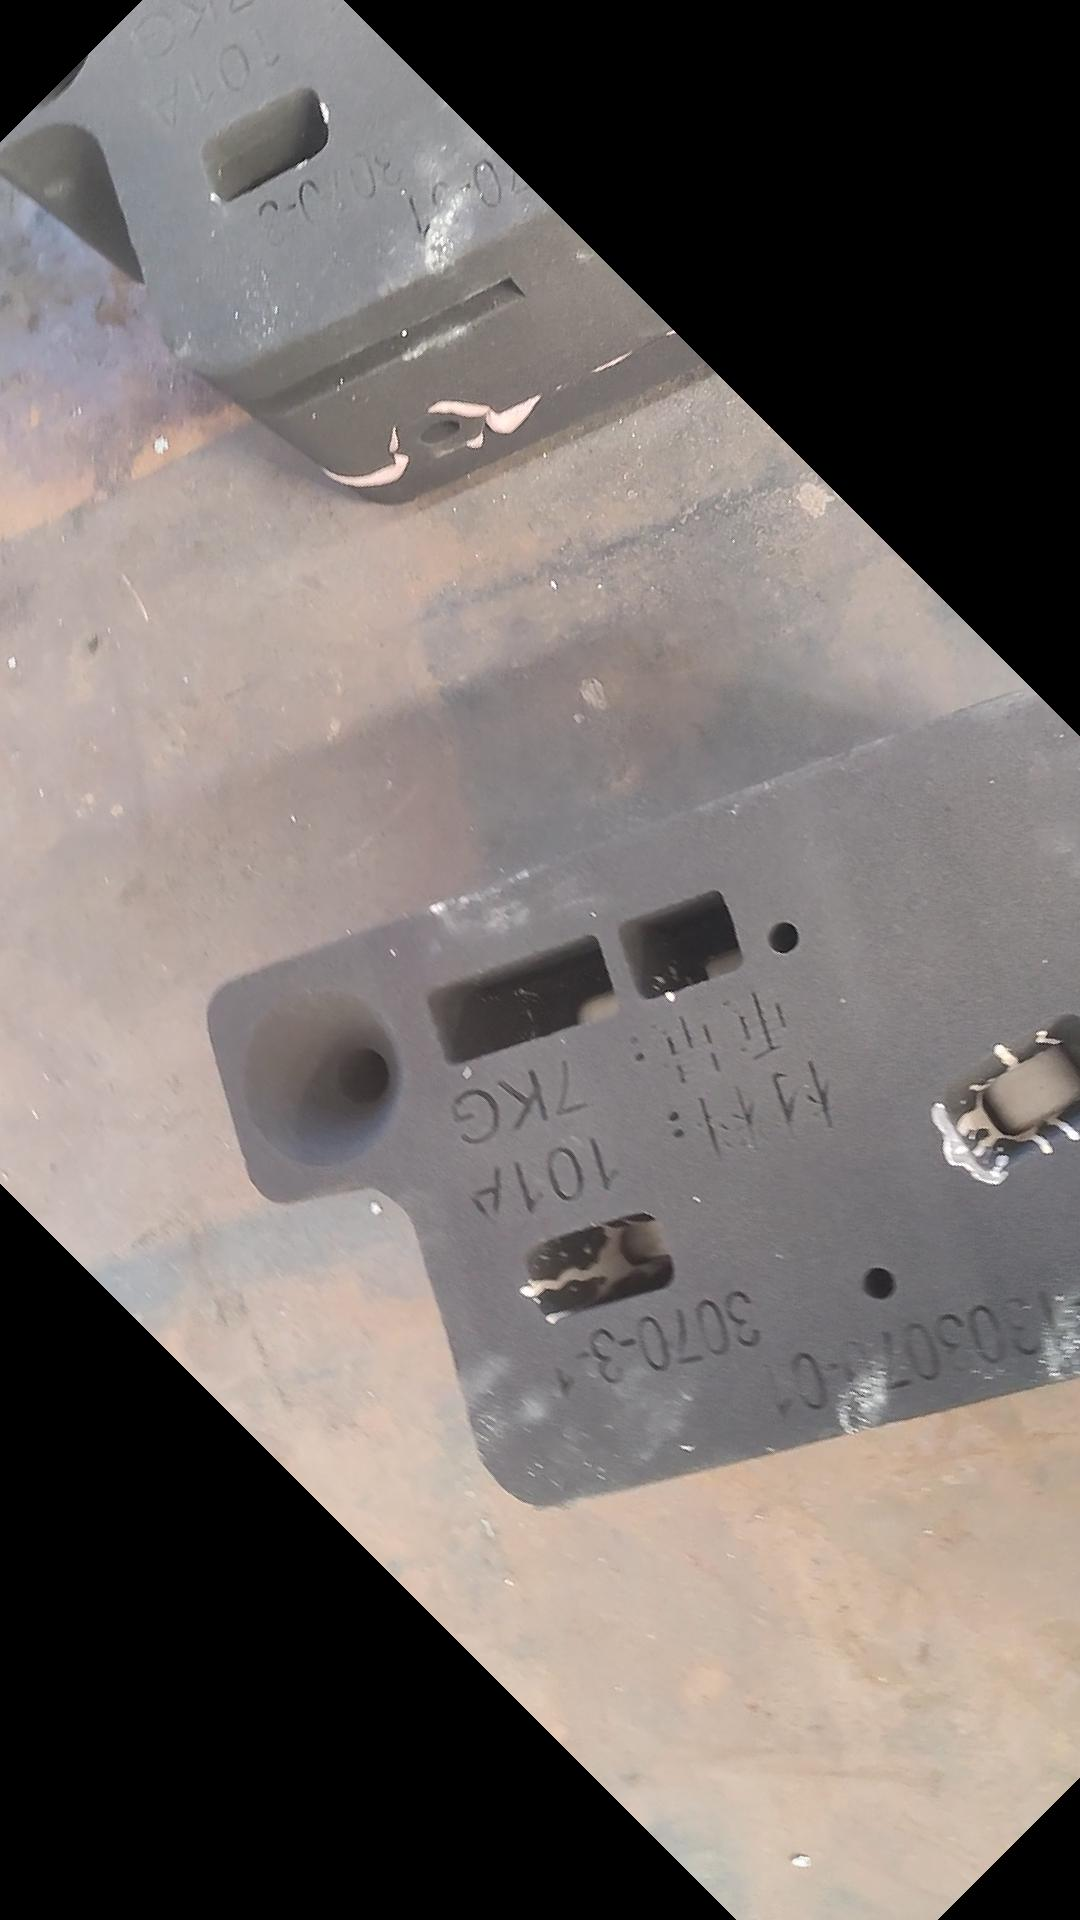pouring hole: (243, 989, 404, 1170), (1, 15, 86, 113)
